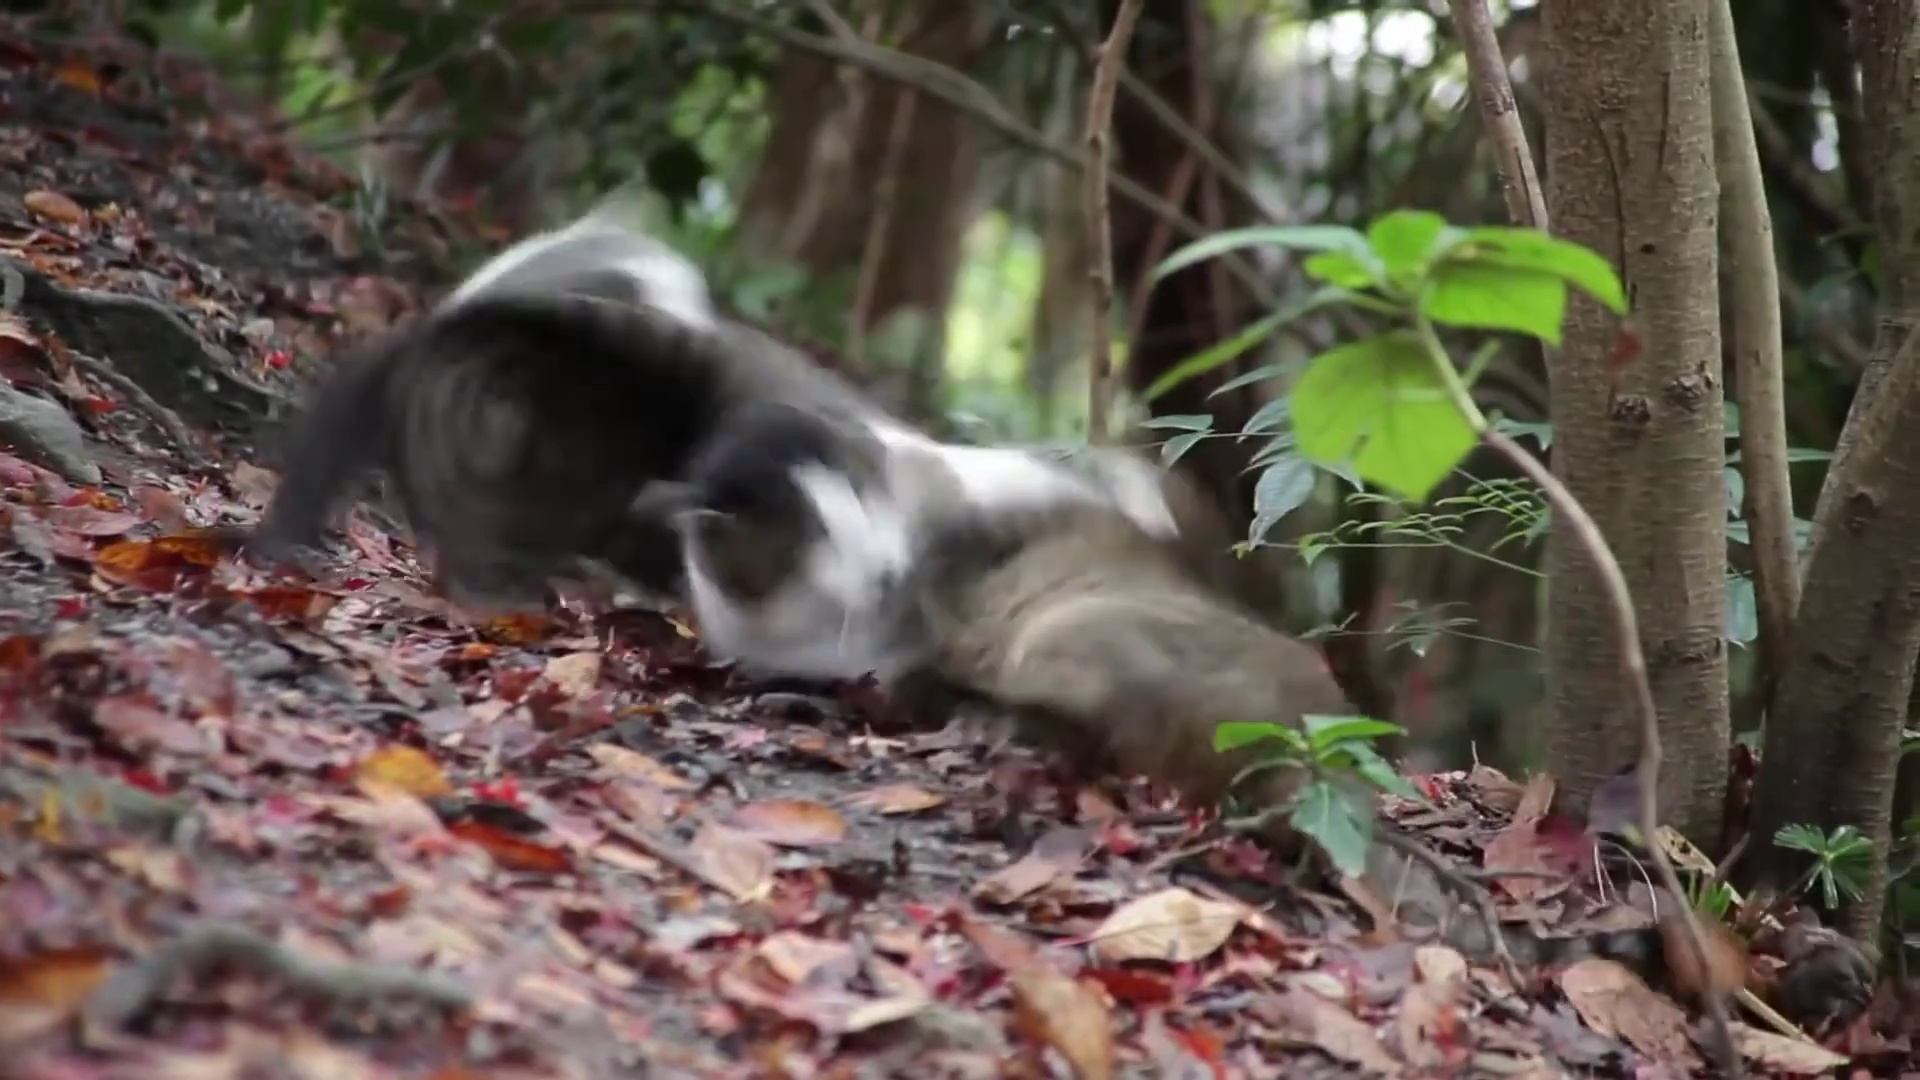black-white: (258, 216, 1073, 680)
pure black: (905, 498, 1353, 785)
